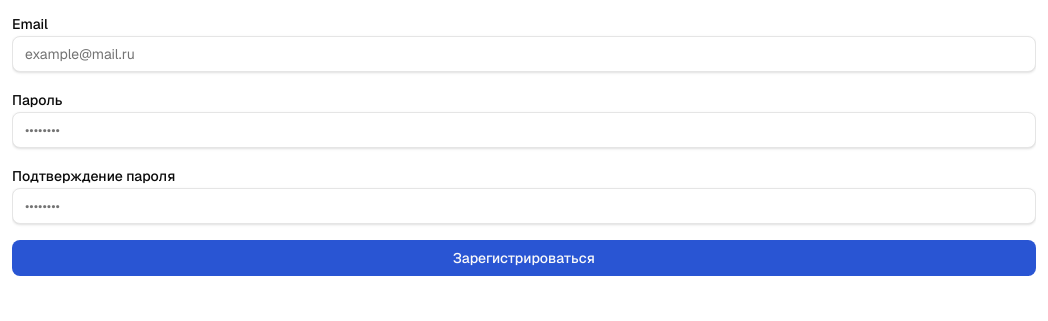
Test: RegisterForm › validates password too short
Type "test@example.com" into the field labelled "Email" at (524, 54), box [12,36,1036,72]
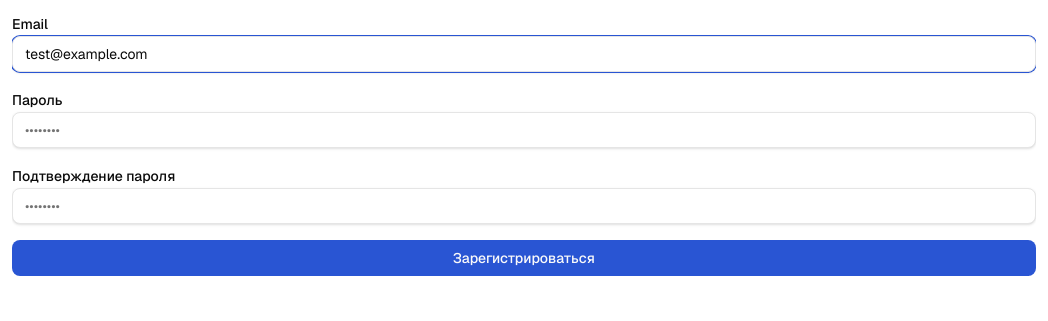
Type "12345" into the password field labelled "Пароль" at (524, 130), box [12,112,1036,148]
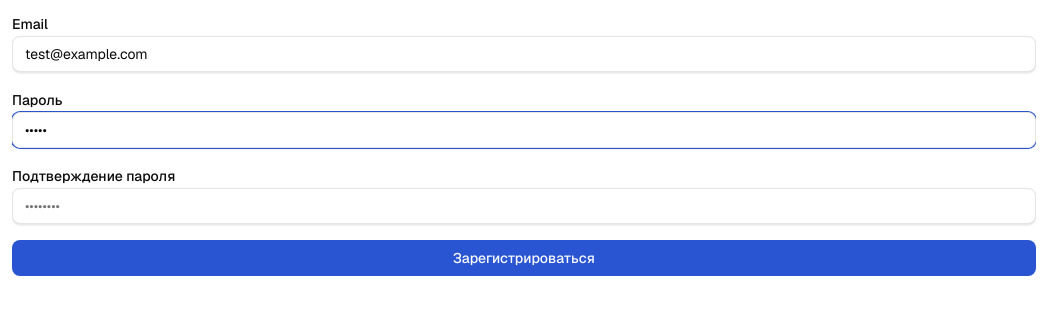
Type "12345" into the password field labelled "Подтверждение пароля" at (524, 206), box [12,188,1036,224]
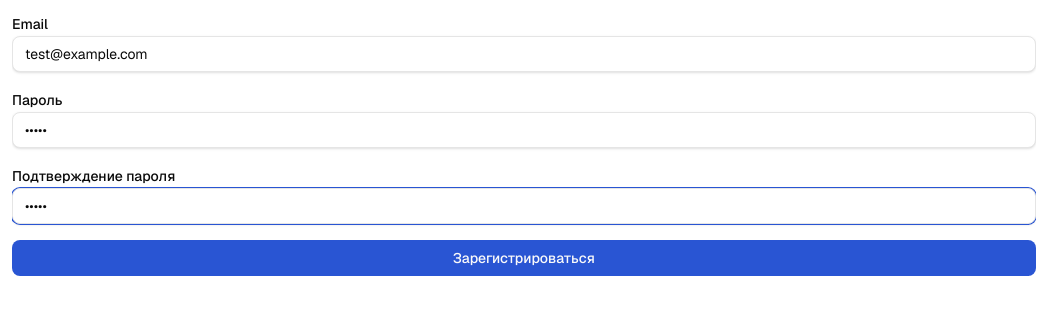
Click the button "Зарегистрироваться" at (524, 258), box [12,240,1036,276]
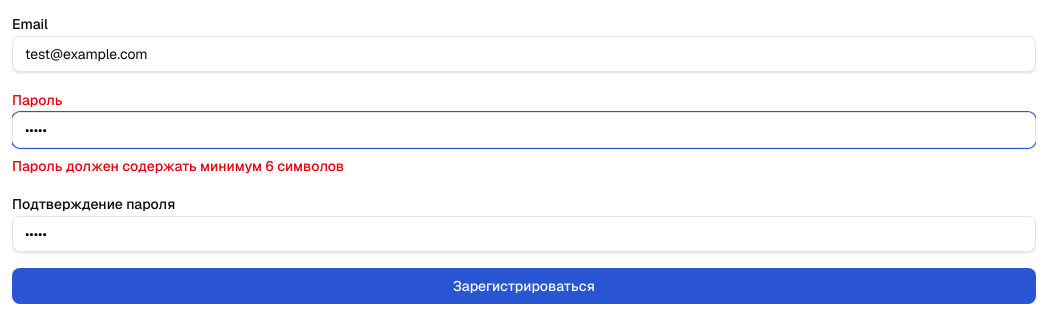
Check: the text "Пароль должен содержать минимум 6 символов" is shown, box [12,157,344,175]
